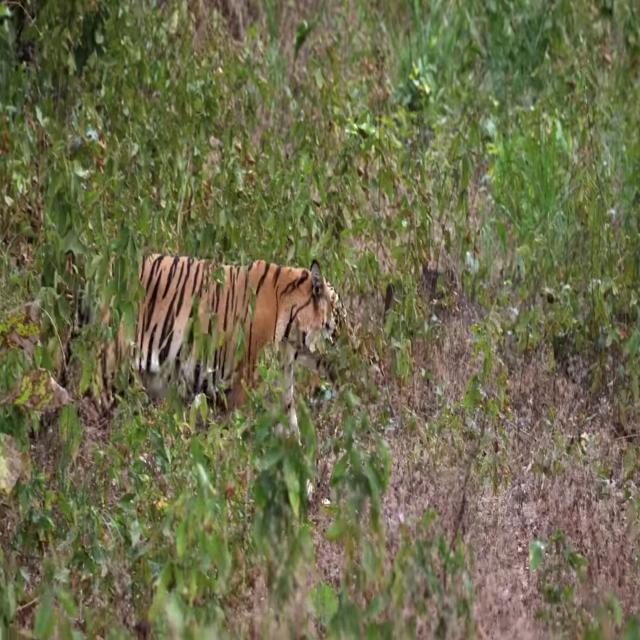tiger: (28, 249, 350, 504)
